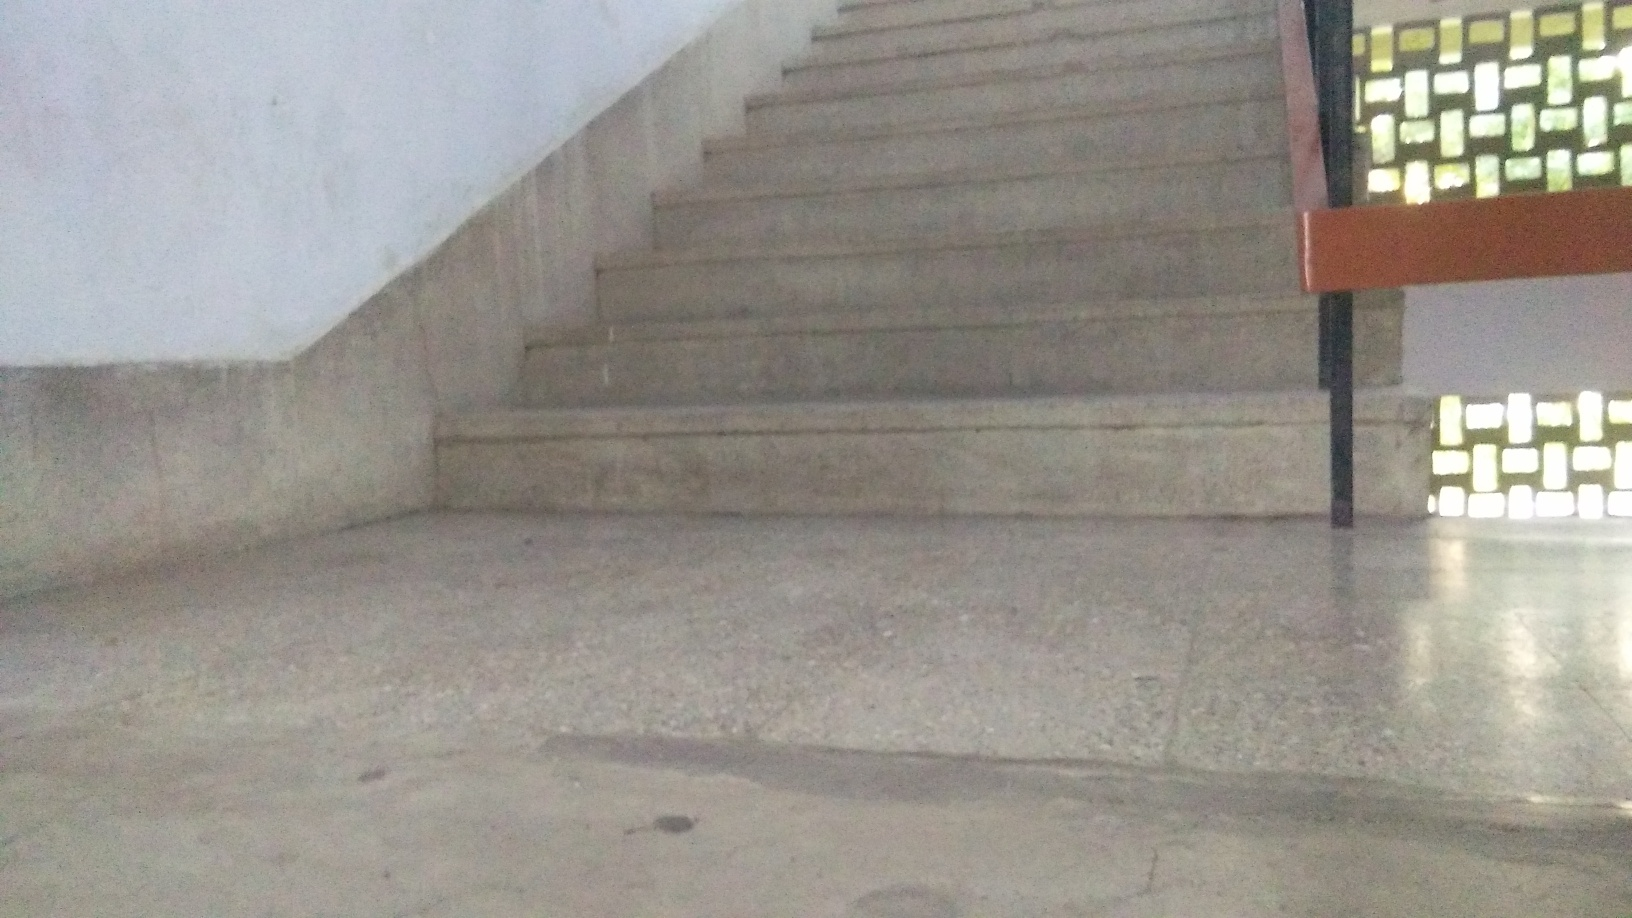stairs_up: (399, 8, 1295, 513)
